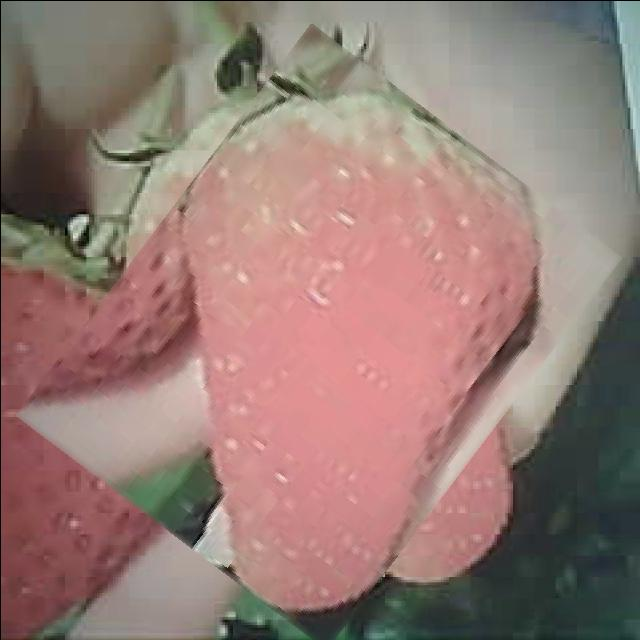strawberry: (69, 56, 567, 616)
